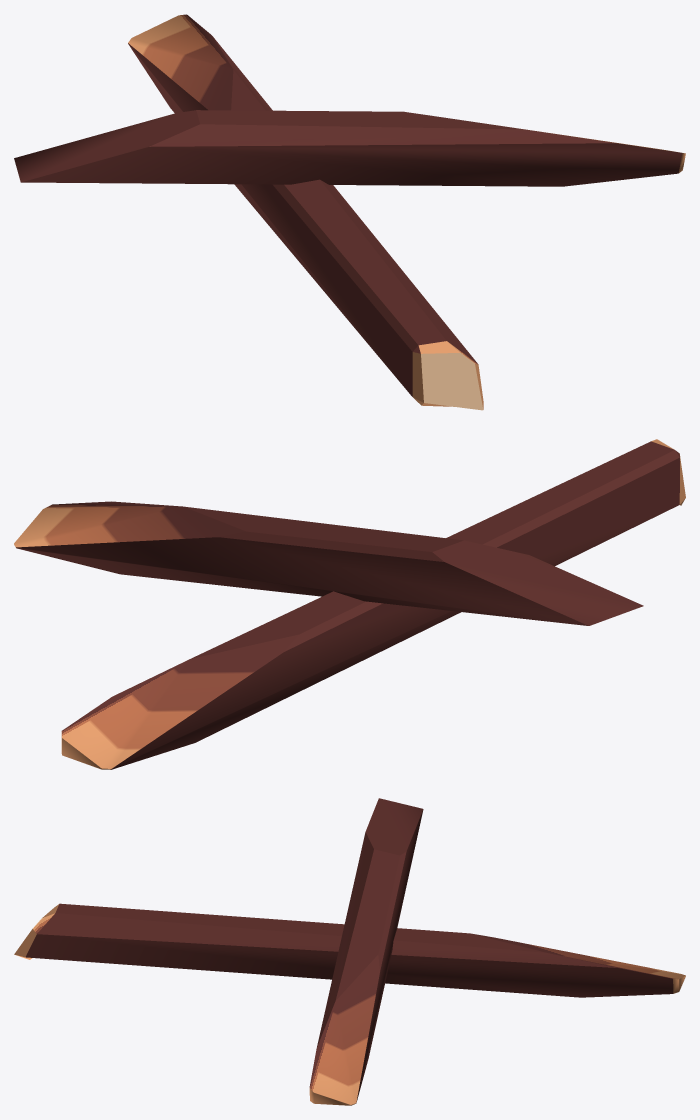
The model's file is Tronco 2 PRONTO.fbx.
The picture shows the model from 3 angles, top to bottom: view 1: azimuth 30°, elevation 25°; view 2: azimuth 150°, elevation 25°; view 3: azimuth 270°, elevation 25°; orthographic projection. The views are drawn at different scales.
Visible parts, largest first — view 1: polySurface1.002; view 2: polySurface1.002; view 3: polySurface1.002.
Part boxes in pixels (x1,y1,x2,y2): polySurface1.002: (14, 14, 685, 410); polySurface1.002: (14, 439, 685, 769); polySurface1.002: (14, 798, 685, 1105).
Size of the model in its own units: 298 by 57.34 by 371.
